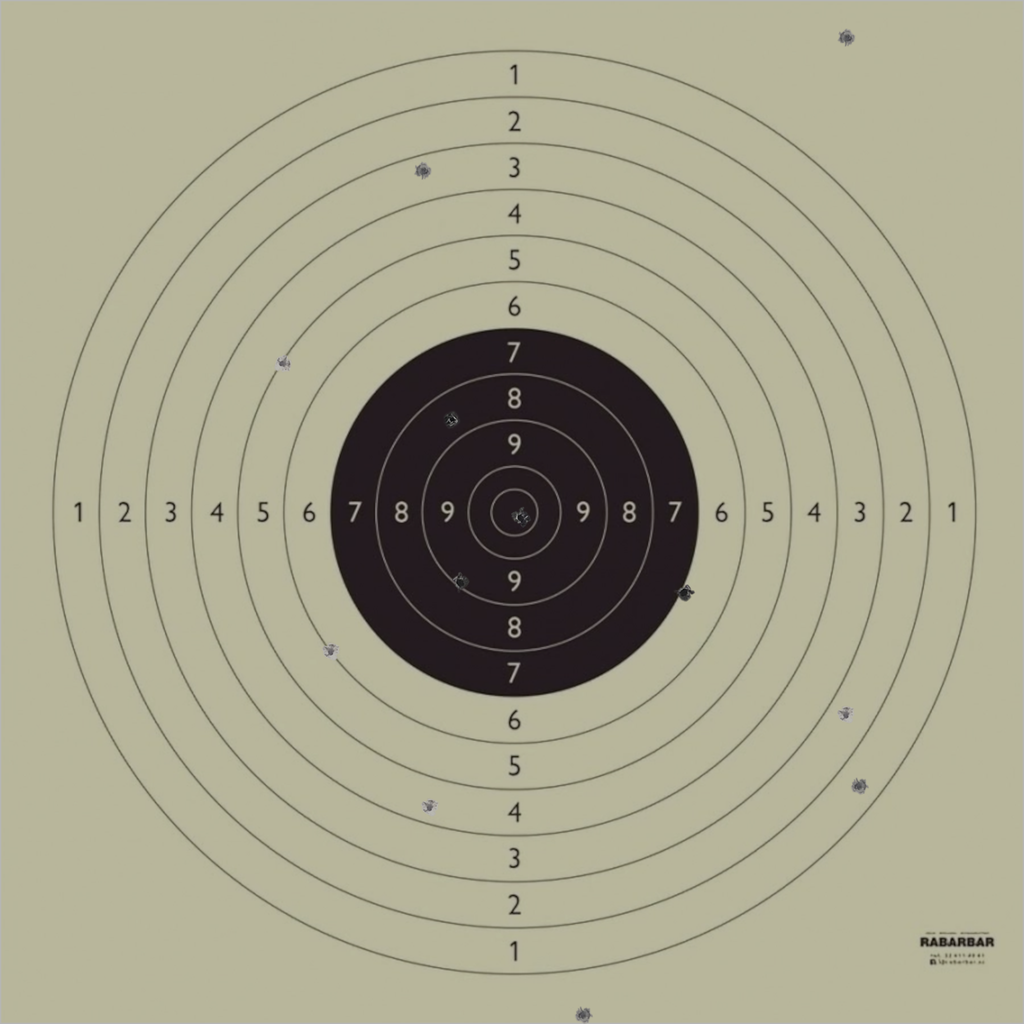0 punktow: (574, 1006, 592, 1024)
1 punkt: (850, 777, 868, 795)
10 punktow: (512, 509, 530, 527)
2 punkty: (837, 706, 855, 724)
3 punkty: (414, 162, 433, 180)
4 punkty: (420, 798, 439, 817)
5 punktow: (274, 354, 292, 373)
6 punktow: (321, 642, 340, 661)
7 punktow: (675, 583, 694, 602)
8 punktow: (443, 411, 462, 429)
9 punktow: (451, 573, 469, 592)
